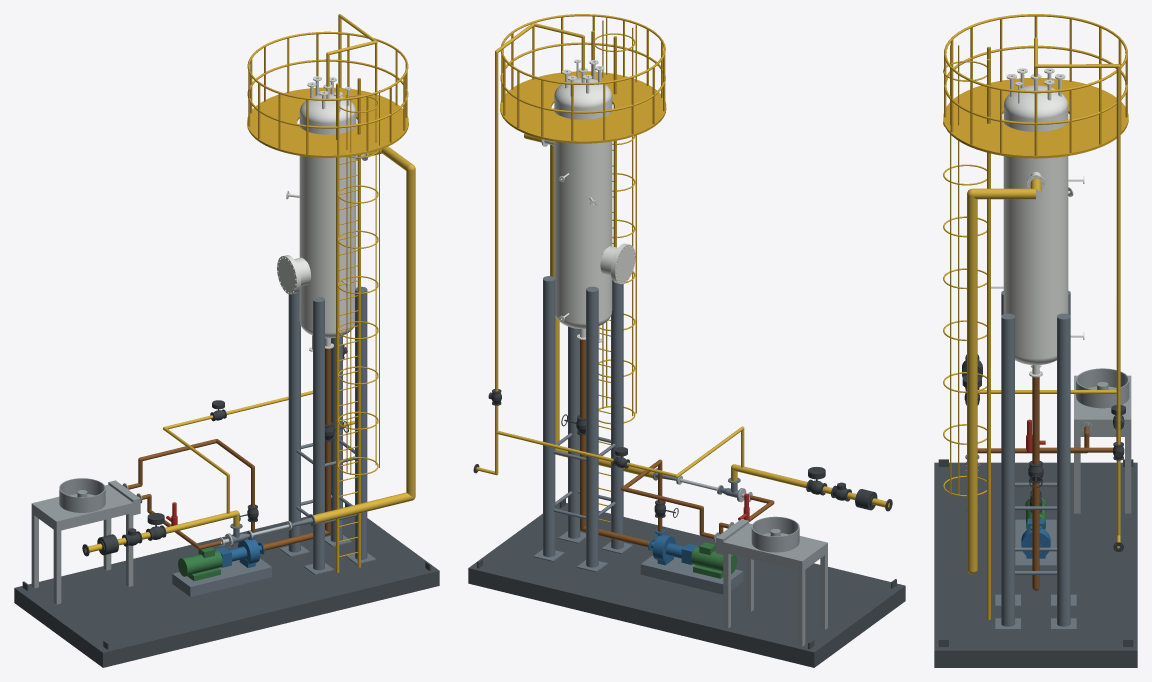
The model's file is skid.glb.
The picture shows the model from 3 angles, left to right: view 1: azimuth 30°, elevation 25°; view 2: azimuth 150°, elevation 25°; view 3: azimuth 270°, elevation 25°; orthographic projection. The views are drawn at different scales.
Visible parts, largest first — view 1: skid frame, V-1/V-1 shell, V-1/legs, V-1/ladder and platform/part59, E-1 air cooler, piping/mixture to V-1 DN150, P-1 baseplate, V-1/ladder and platform/part17, V-1/ladder and platform/part16, piping/pump suction DN100, P-1 motor (Ex, 11 kW), V-1/ladder and platform/part61 (+9 smaller); view 2: skid frame, V-1/legs, V-1/V-1 shell, V-1/ladder and platform/part59, E-1 air cooler, piping/gas to heater DN50, P-1 baseplate, piping/mixture to V-1 DN150, piping/pump suction DN100, piping/recycle DN50, V-1/ladder and platform/part61, piping/pump discharge DN65 (+6 smaller); view 3: skid frame, V-1/V-1 shell, V-1/legs, V-1/ladder and platform/part59, piping/mixture to V-1 DN150, E-1 air cooler, piping/gas to heater DN50, V-1/ladder and platform/part17, piping/pump suction DN100, V-1/ladder and platform/part61, P-1 baseplate, V-1/ladder and platform/part60 (+7 smaller).
Boxes of the visible parts, box(x1,y1,x2,y2) form: skid frame: box(14, 503, 439, 667); V-1/V-1 shell: box(277, 76, 368, 351); V-1/legs: box(279, 286, 376, 574); V-1/ladder and platform/part59: box(247, 87, 408, 157); E-1 air cooler: box(31, 478, 142, 604); piping/mixture to V-1 DN150: box(313, 146, 415, 523); P-1 baseplate: box(172, 558, 271, 596); V-1/ladder and platform/part17: box(357, 78, 360, 567); V-1/ladder and platform/part16: box(336, 83, 339, 572); piping/pump suction DN100: box(263, 348, 330, 550); P-1 motor (Ex, 11 kW): box(178, 547, 222, 581); V-1/ladder and platform/part61: box(247, 31, 408, 100); skid frame: box(468, 499, 905, 667); V-1/legs: box(533, 276, 632, 572); V-1/V-1 shell: box(541, 59, 635, 342); V-1/ladder and platform/part59: box(500, 71, 666, 143); E-1 air cooler: box(714, 516, 827, 646); piping/gas to heater DN50: box(476, 23, 584, 475); P-1 baseplate: box(640, 555, 743, 594); piping/mixture to V-1 DN150: box(524, 108, 653, 478); piping/pump suction DN100: box(580, 339, 649, 547); piping/recycle DN50: box(496, 426, 744, 477); V-1/ladder and platform/part61: box(500, 14, 665, 84); piping/pump discharge DN65: box(621, 459, 714, 538); skid frame: box(934, 459, 1137, 667); V-1/V-1 shell: box(991, 68, 1084, 377); V-1/legs: box(995, 291, 1076, 630); V-1/ladder and platform/part59: box(943, 78, 1128, 158); piping/mixture to V-1 DN150: box(967, 178, 1041, 574); E-1 air cooler: box(1074, 368, 1131, 513); piping/gas to heater DN50: box(1034, 37, 1120, 548); V-1/ladder and platform/part17: box(987, 59, 990, 619); piping/pump suction DN100: box(1032, 377, 1039, 590); V-1/ladder and platform/part61: box(944, 14, 1127, 93); P-1 baseplate: box(1015, 519, 1056, 576); V-1/ladder and platform/part60: box(944, 45, 1127, 124).
Bounding box in the file's own units: 7.08 × 10.29 × 3.2.
